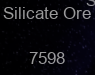Silicate: (3, 6, 92, 66)
